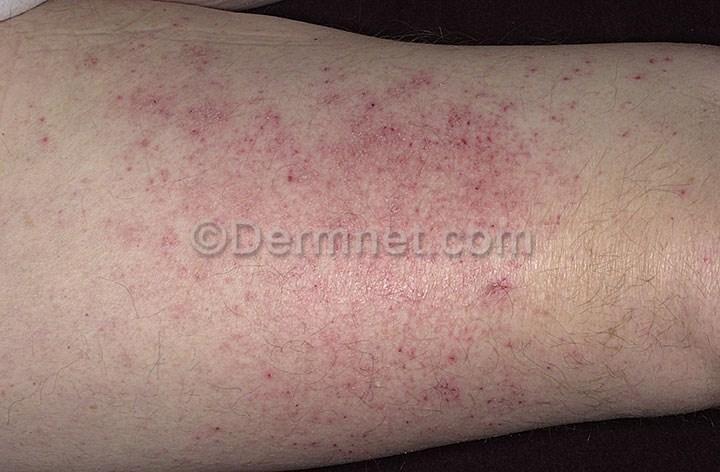Eczema: (133, 193, 326, 338), (304, 36, 471, 196), (126, 40, 298, 192), (470, 70, 605, 255), (328, 198, 466, 363), (178, 339, 333, 463), (474, 251, 572, 414), (340, 355, 471, 456)
